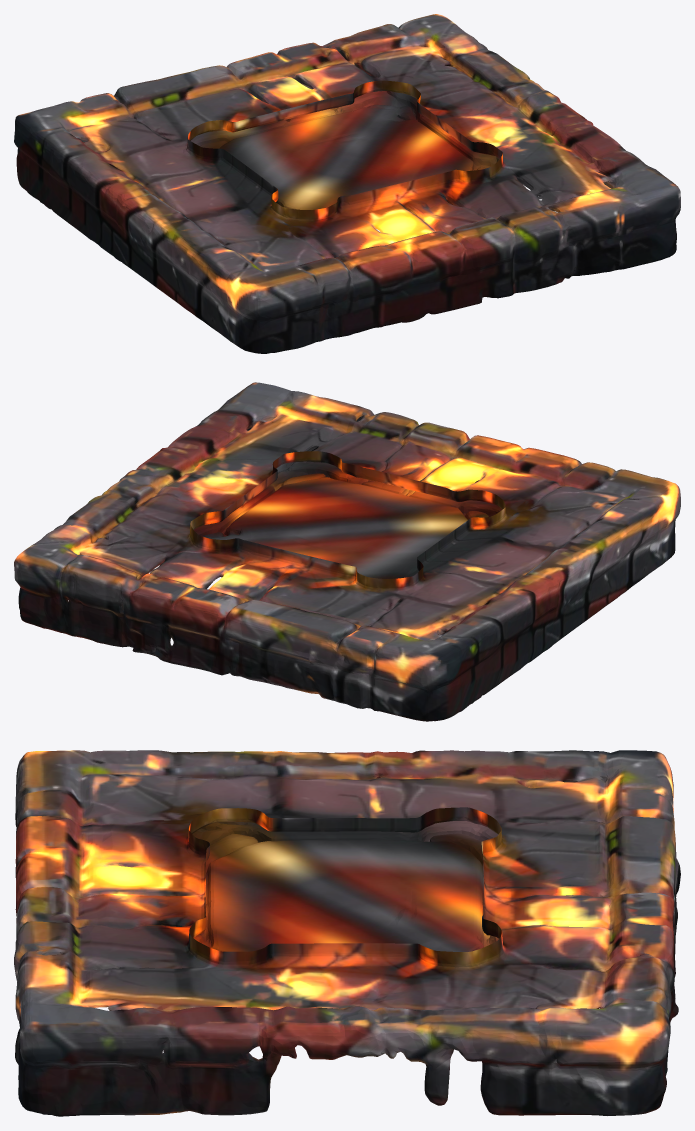
The model's file is cinder_plate.glb.
The picture shows the model from 3 angles, top to bottom: view 1: azimuth 30°, elevation 25°; view 2: azimuth 150°, elevation 25°; view 3: azimuth 270°, elevation 25°; orthographic projection. The views are drawn at different scales.
Parts seen in each view (by area): view 1: cinder_plate; view 2: cinder_plate; view 3: cinder_plate.
Boxes of the visible parts, <box> form: cinder_plate: <box>14,14,680,353</box>; cinder_plate: <box>14,382,680,721</box>; cinder_plate: <box>14,750,680,1116</box>.
Bounding box in the file's own units: 2.01 × 0.3174 × 2.
1 material, 1 textured.
